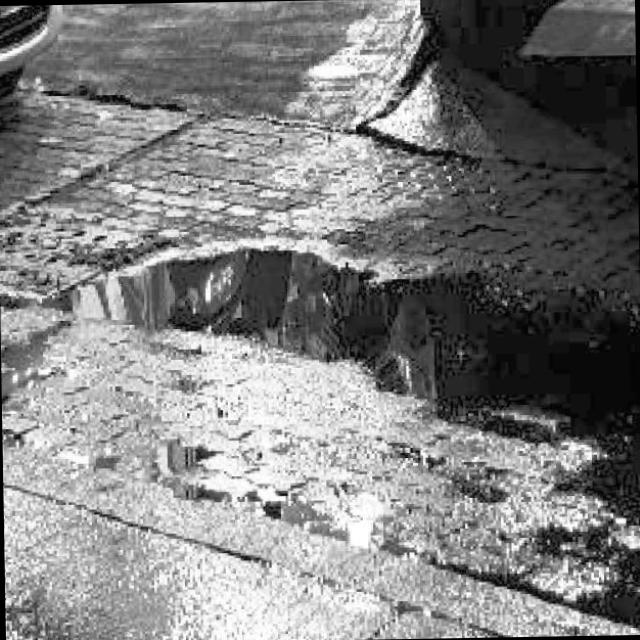Pothole: (33, 217, 640, 478)
